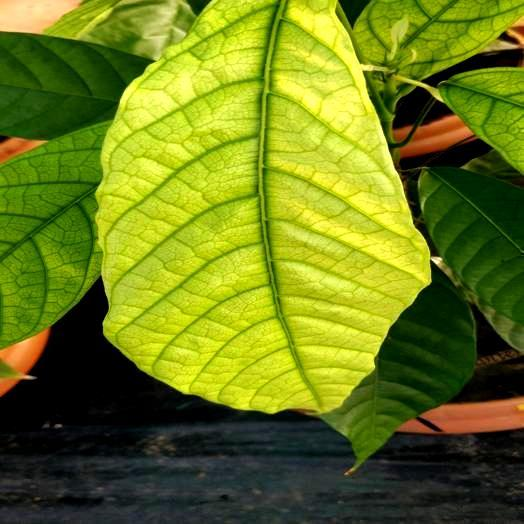Healthy Leaf: (322, 264, 476, 468), (419, 167, 523, 348), (0, 32, 151, 139)
Iron: (97, 0, 429, 413), (2, 124, 107, 347), (353, 0, 523, 79), (440, 67, 523, 172)
